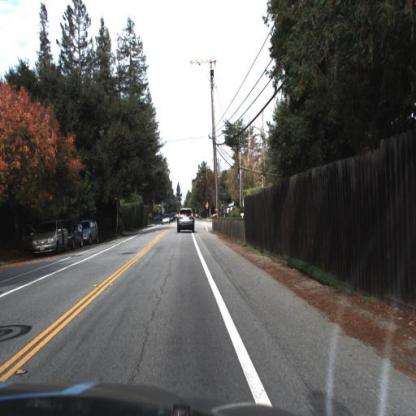car: (29, 224, 67, 256), (174, 206, 197, 236), (64, 217, 84, 250), (65, 219, 85, 251), (80, 217, 100, 244), (159, 213, 170, 229)
